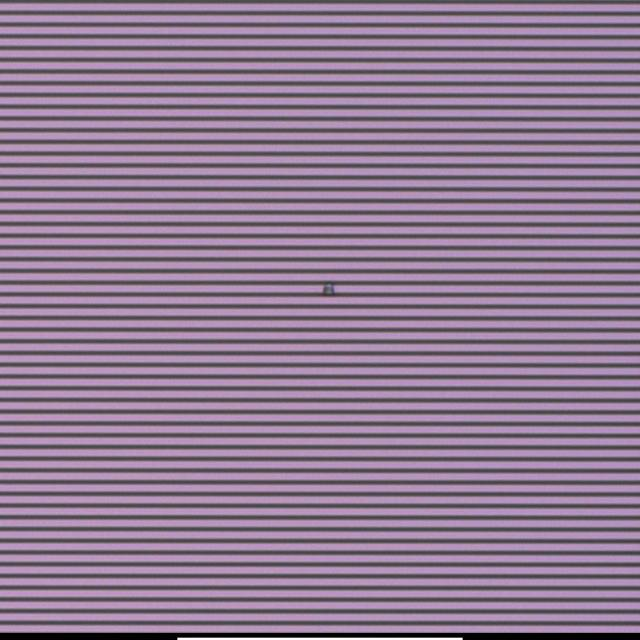03_intrusion: (321, 278, 337, 296)
